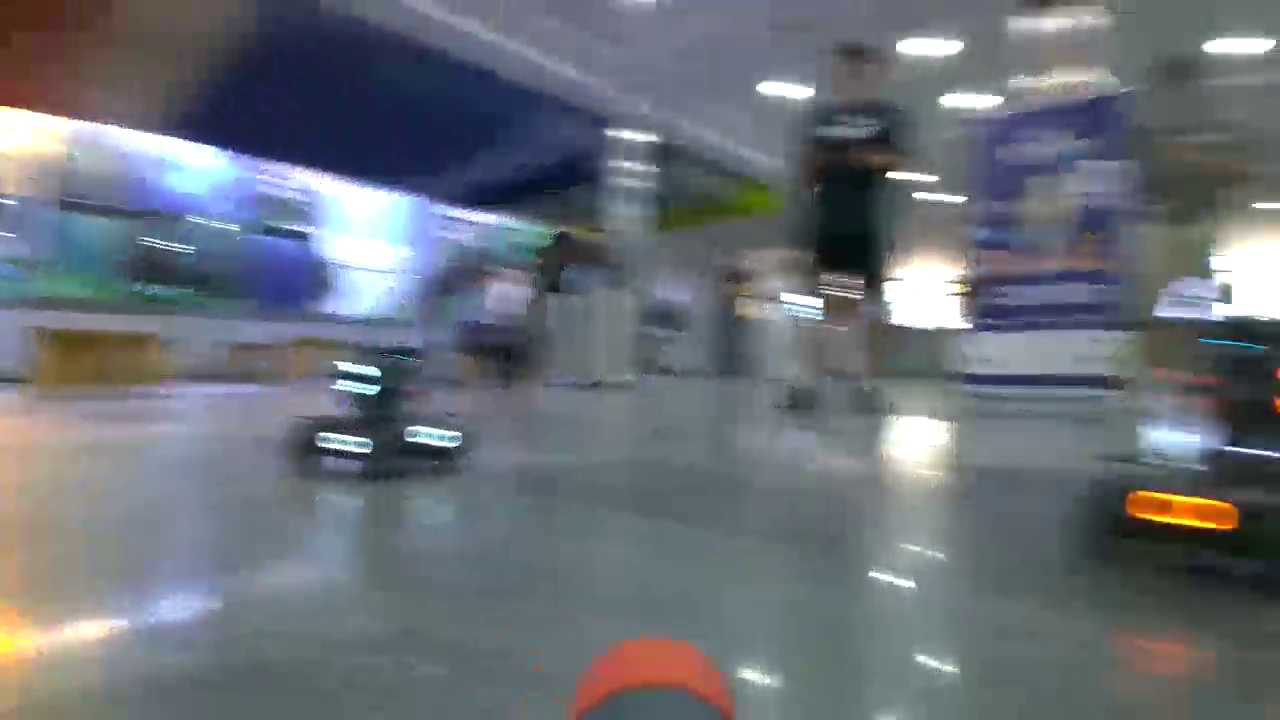robot: (1078, 313, 1278, 588), (270, 344, 481, 479)
